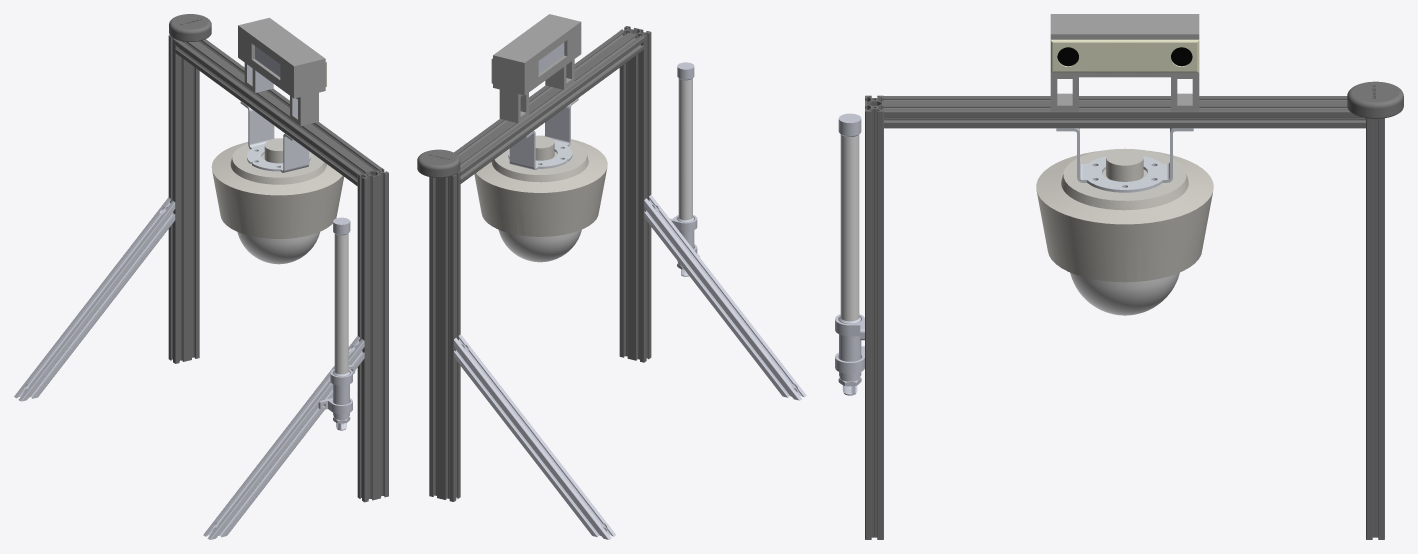
The model's file is ulee03_arch.dae.
The picture shows the model from 3 angles, left to right: view 1: azimuth 30°, elevation 25°; view 2: azimuth 150°, elevation 25°; view 3: azimuth 270°, elevation 25°; orthographic projection. The views are drawn at different scales.
Parts seen in each view (by area): view 1: mesh_1, mesh_6, mesh_2, mesh_7, mesh_3, mesh_4, mesh_10, mesh_5; view 2: mesh_1, mesh_2, mesh_6, mesh_7, mesh_4, mesh_10, mesh_5, mesh_3; view 3: mesh_1, mesh_6, mesh_7, mesh_8, mesh_4, mesh_5, mesh_3, mesh_10, mesh_9.
Part boxes in pixels (x1=…): mesh_1: x1=168, y1=14, x2=388, y2=502; mesh_6: x1=211, y1=138, x2=343, y2=239; mesh_2: x1=14, y1=197, x2=364, y2=539; mesh_7: x1=238, y1=17, x2=326, y2=126; mesh_3: x1=247, y1=46, x2=355, y2=430; mesh_4: x1=334, y1=233, x2=348, y2=374; mesh_10: x1=240, y1=101, x2=310, y2=172; mesh_5: x1=237, y1=232, x2=319, y2=264; mesh_1: x1=417, y1=26, x2=651, y2=501; mesh_2: x1=454, y1=195, x2=806, y2=539; mesh_6: x1=474, y1=135, x2=607, y2=237; mesh_7: x1=492, y1=14, x2=581, y2=122; mesh_4: x1=678, y1=78, x2=692, y2=220; mesh_10: x1=508, y1=98, x2=578, y2=170; mesh_5: x1=498, y1=229, x2=581, y2=262; mesh_3: x1=538, y1=42, x2=699, y2=276; mesh_1: x1=865, y1=81, x2=1403, y2=539; mesh_6: x1=1036, y1=148, x2=1213, y2=282; mesh_7: x1=1050, y1=14, x2=1199, y2=111; mesh_8: x1=1050, y1=39, x2=1199, y2=72; mesh_4: x1=840, y1=134, x2=859, y2=321; mesh_5: x1=1070, y1=272, x2=1179, y2=315; mesh_3: x1=835, y1=113, x2=864, y2=395; mesh_10: x1=1056, y1=128, x2=1193, y2=192; mesh_9: x1=1057, y1=47, x2=1192, y2=66.
Bounding box in the file's own units: 0.364 × 0.6017 × 0.595.
